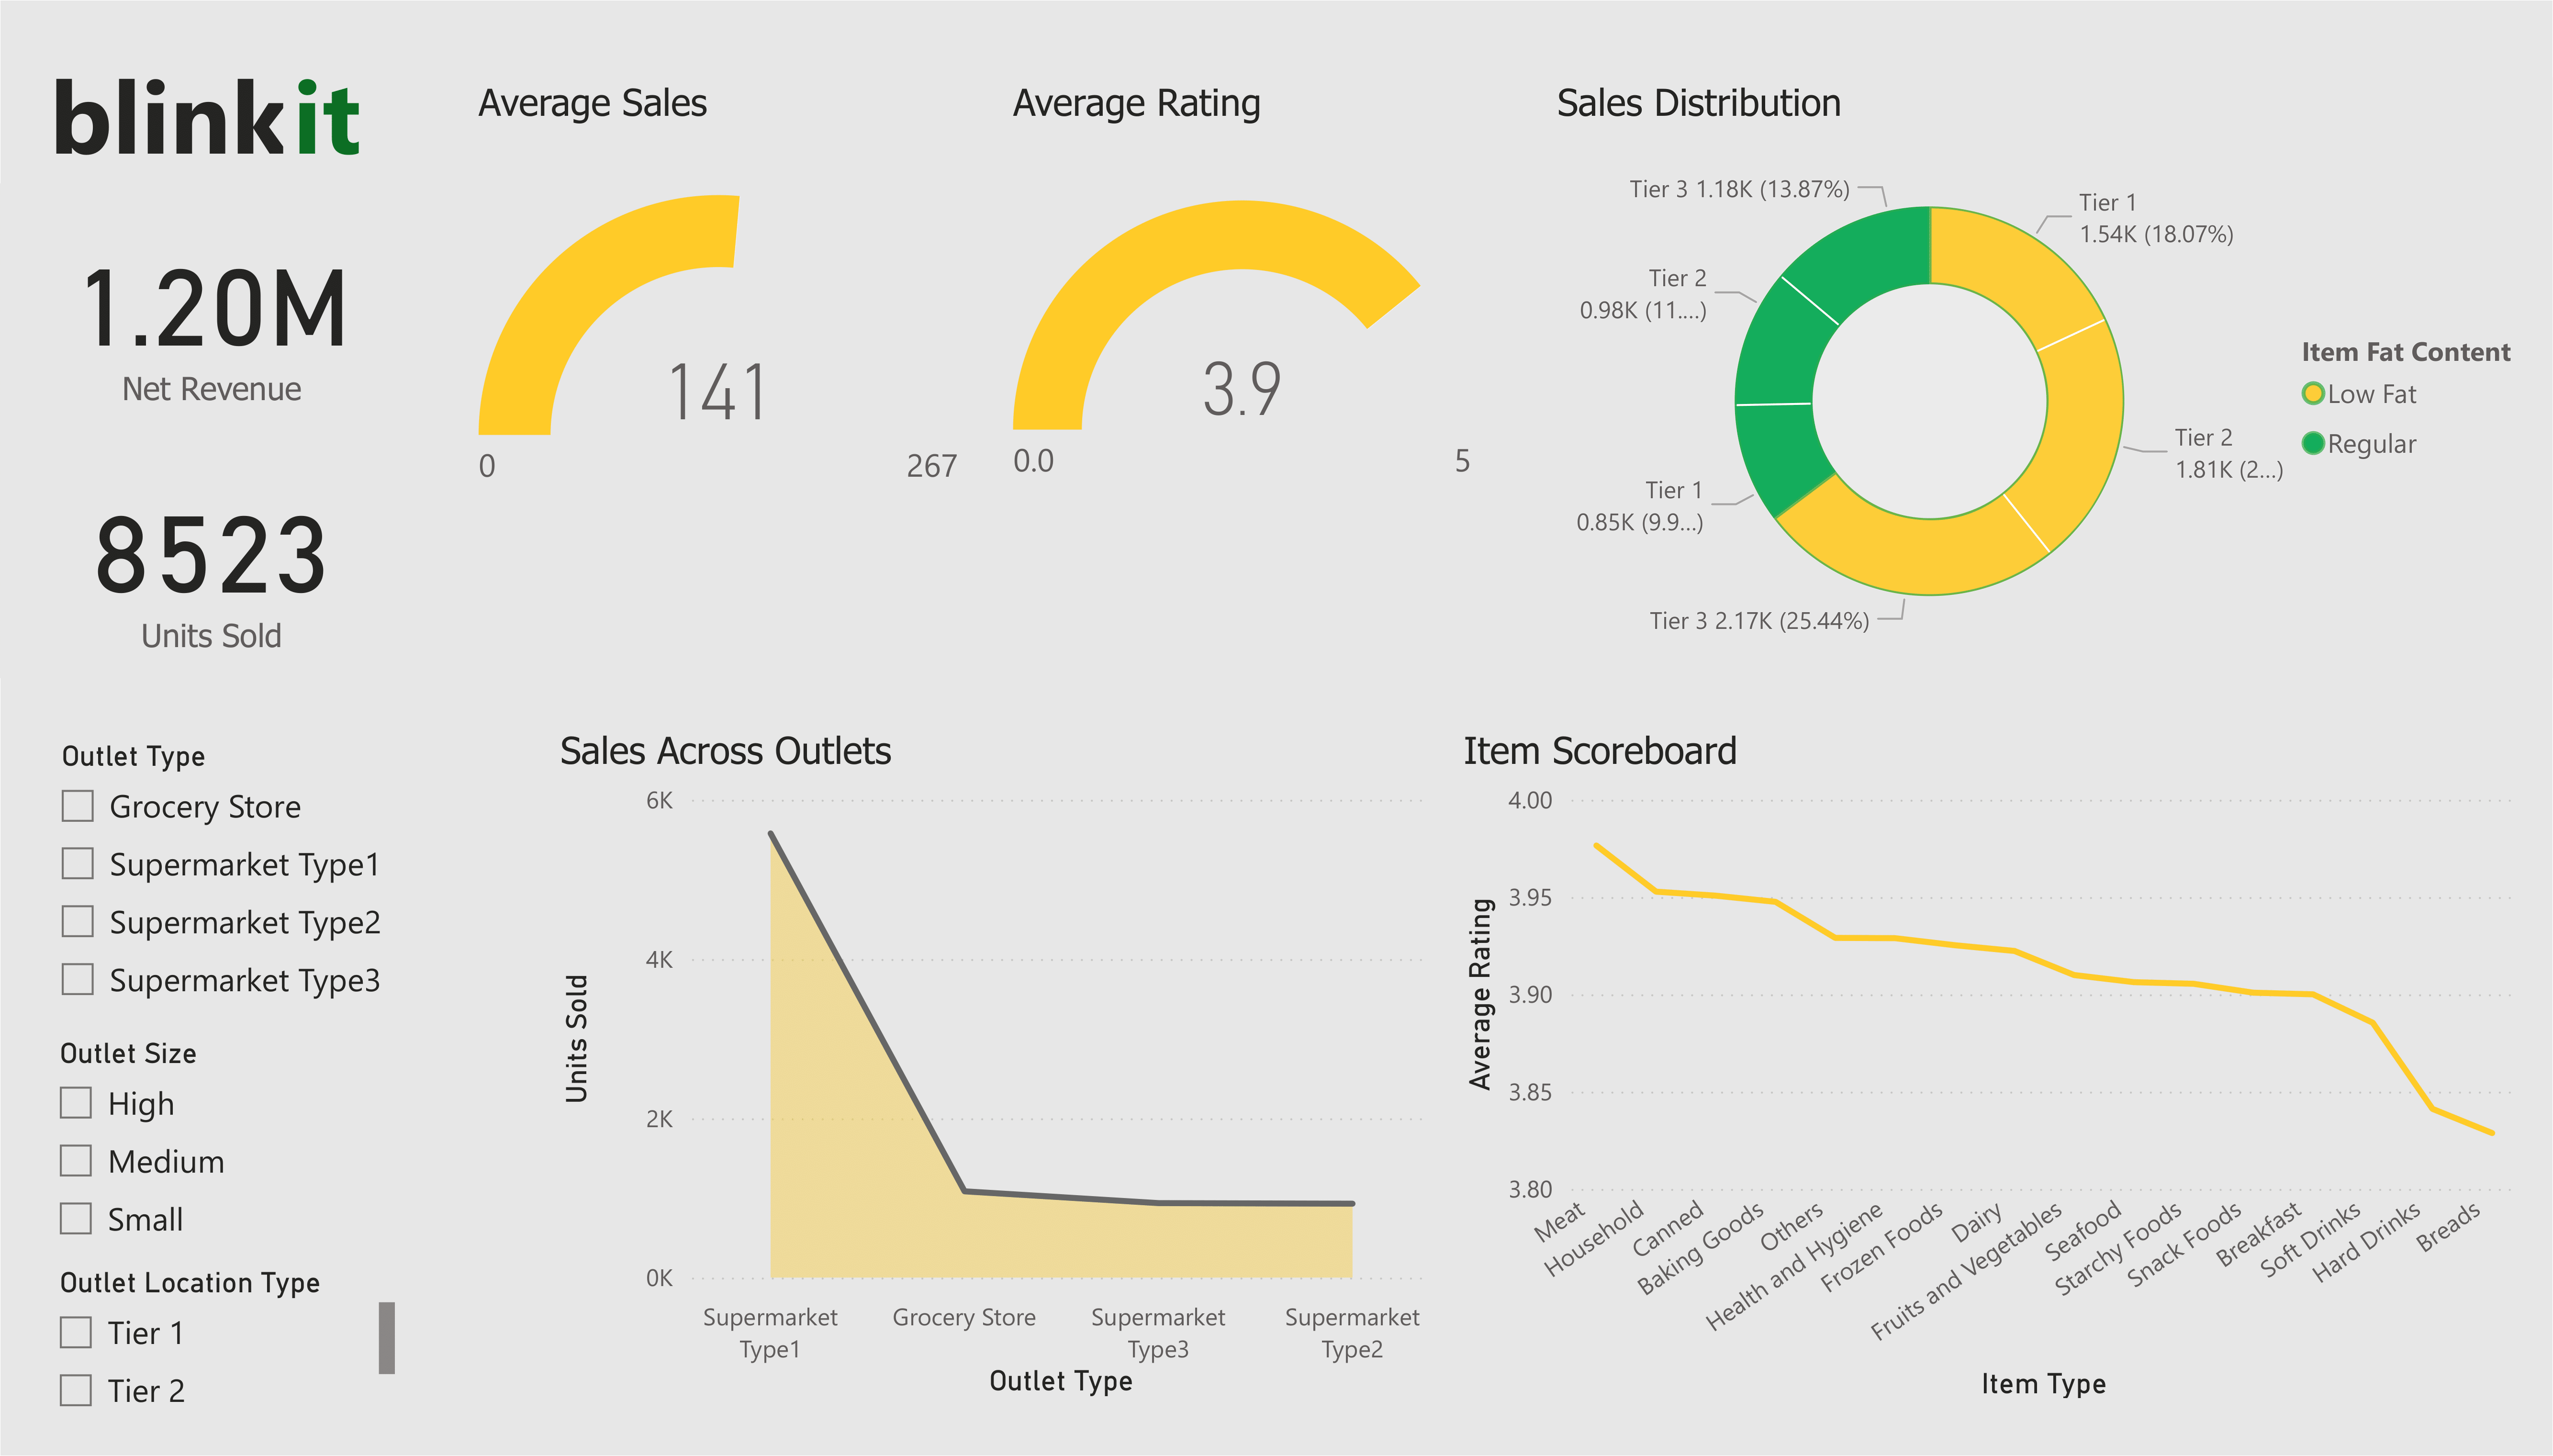

The page's visual inventory and layout, read from the dashboard file:
{"tool":"powerbi","page":{"name":"Page 1","canvas":[1280,720],"ordinal":0},"visuals":[{"type":"donutChart","title":"Sales Distribution","fields":{"Category":["Sheet1.Item Fat Content"],"Y":["CountNonNull(Sheet1.Sales)"],"Series":["Sheet1.Outlet Location Type"]},"box":[775.9,33.6,504.1,300.9],"z":0},{"type":"lineChart","title":"Item Scoreboard","fields":{"Category":["Sheet1.Item Type"],"Y":["Avg(Sheet1.Rating)"]},"box":[728.6,358.9,537.7,342.1],"z":1000},{"type":"gauge","title":"Average Sales ","fields":{"Y":["Avg(Sheet1.Sales)"],"MaxValue":["Max(Sheet1.Sales)1"]},"box":[235.2,33.6,250.5,245.9],"z":2000},{"type":"gauge","title":"Average Rating","fields":{"Y":["Avg(Sheet1.Rating)"],"MaxValue":["Max(Sheet1.Rating)"]},"box":[502.5,33.6,239.8,245.9],"z":3000},{"type":"areaChart","title":"Sales Across Outlets","fields":{"Category":["Sheet1.Outlet Type"],"Y":["CountNonNull(Sheet1.Sales)"]},"box":[276.5,358.9,452.1,340.6],"z":4000},{"type":"card","title":"Net Revenue","fields":{"Values":["Sum(Sheet1.Sales)"]},"box":[0,87.1,212.3,129.8],"z":5000},{"type":"textbox","title":"blink","box":[19.9,16.8,134.4,65.7],"z":6000},{"type":"textbox","title":"it","box":[142.1,16.8,48.9,70.3],"z":7000},{"type":"slicer","fields":{"Values":["Sheet1.Outlet Type"]},"box":[17.8,361,184.3,148.7],"z":8000},{"type":"slicer","fields":{"Values":["Sheet1.Outlet Size"]},"box":[16.5,509.7,185.6,116.9],"z":9000},{"type":"card","fields":{"Values":["CountNonNull(Sheet1.Sales)"]},"box":[0,216.9,212.3,117.6],"z":10000},{"type":"slicer","fields":{"Values":["Sheet1.Outlet Location Type"]},"box":[16.5,625.4,185.6,85.2],"z":11000}]}

Visuals, with their boxes in screenshot pixels (x1, y1, x2, y2), scaled from the page's 1280x720 canvas onto the 2553x1456 screenshot:
"Sales Distribution" donutChart: Rect(1547, 68, 2553, 676)
"Item Scoreboard" lineChart: Rect(1453, 726, 2526, 1418)
"Average Sales " gauge: Rect(469, 68, 969, 565)
"Average Rating" gauge: Rect(1002, 68, 1480, 565)
"Sales Across Outlets" areaChart: Rect(551, 726, 1453, 1414)
"Net Revenue" card: Rect(0, 176, 424, 438)
"blink" textbox: Rect(40, 34, 308, 167)
"it" textbox: Rect(283, 34, 381, 176)
slicer - Sheet1.Outlet Type: Rect(35, 730, 403, 1030)
slicer - Sheet1.Outlet Size: Rect(33, 1030, 403, 1267)
card - CountNonNull(Sheet1.Sales): Rect(0, 438, 424, 676)
slicer - Sheet1.Outlet Location Type: Rect(33, 1265, 403, 1437)
